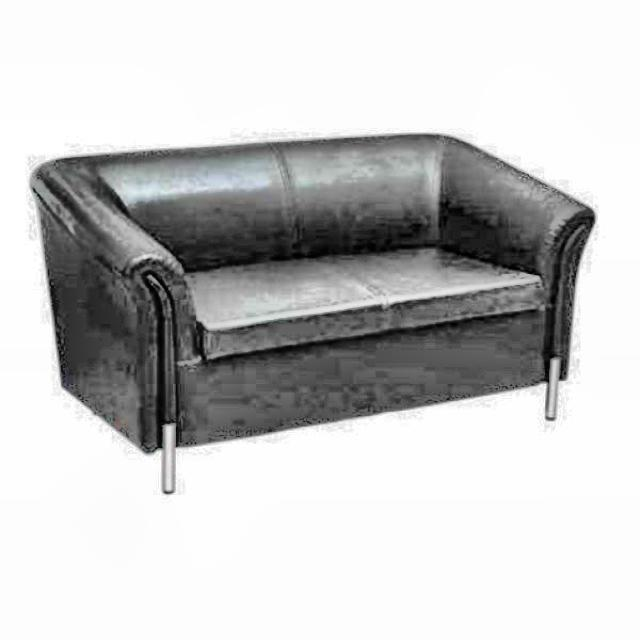sofa: (28, 129, 596, 494)
